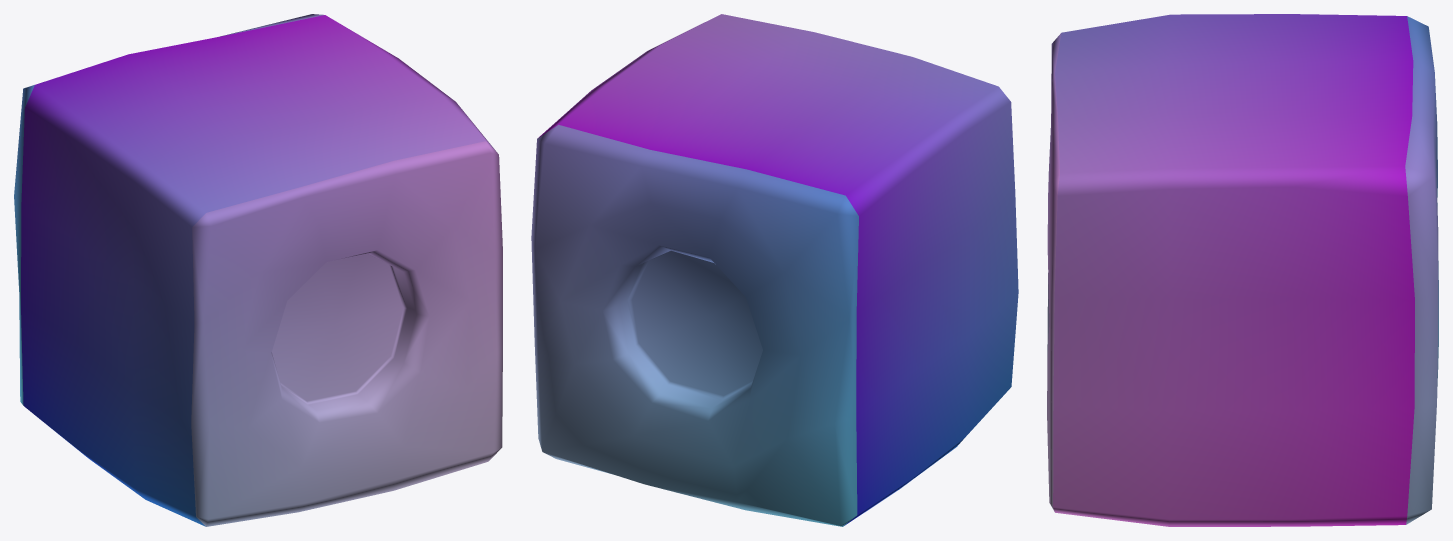
3 renders of one model, left to right at view 1: azimuth 30°, elevation 25°; view 2: azimuth 150°, elevation 25°; view 3: azimuth 270°, elevation 25°, orthographic. The views are drawn at different scales.
Visible parts, largest first — view 1: SM_BlightRoot_01_LOD0; view 2: SM_BlightRoot_01_LOD0; view 3: SM_BlightRoot_01_LOD0.
Part boxes in pixels (left/top/right/bottom): SM_BlightRoot_01_LOD0: left=14, top=14, right=502, bottom=526; SM_BlightRoot_01_LOD0: left=531, top=14, right=1018, bottom=526; SM_BlightRoot_01_LOD0: left=1047, top=14, right=1438, bottom=526.
Size of the model in its own units: 0.2565 by 0.2582 by 0.2511.
